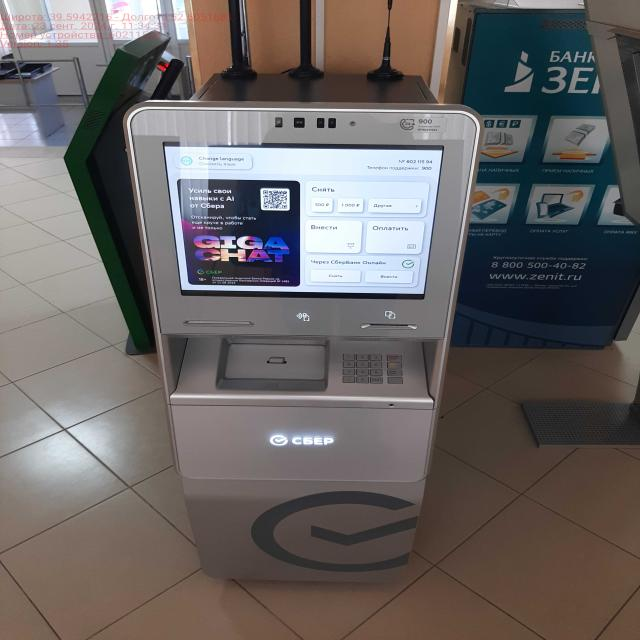bank: (126, 69, 485, 578)
